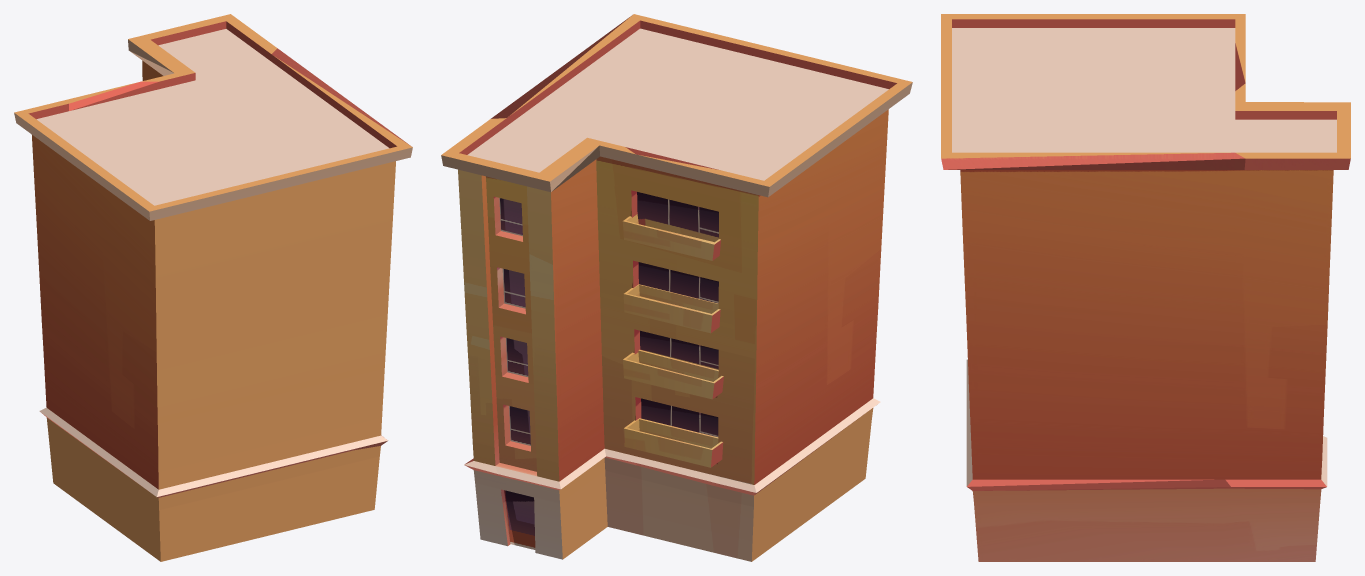
The model's file is Building_01.FBX.
The picture shows the model from 3 angles, left to right: view 1: azimuth 30°, elevation 25°; view 2: azimuth 150°, elevation 25°; view 3: azimuth 270°, elevation 25°; orthographic projection. The views are drawn at different scales.
Parts seen in each view (by area): view 1: Building_01; view 2: Building_01; view 3: Building_01.
Boxes of the visible parts, <box> form: Building_01: <box>14,14,412,561</box>; Building_01: <box>441,14,912,561</box>; Building_01: <box>941,14,1350,561</box>.
Size of the model in its own units: 1692 by 2265 by 2026.
